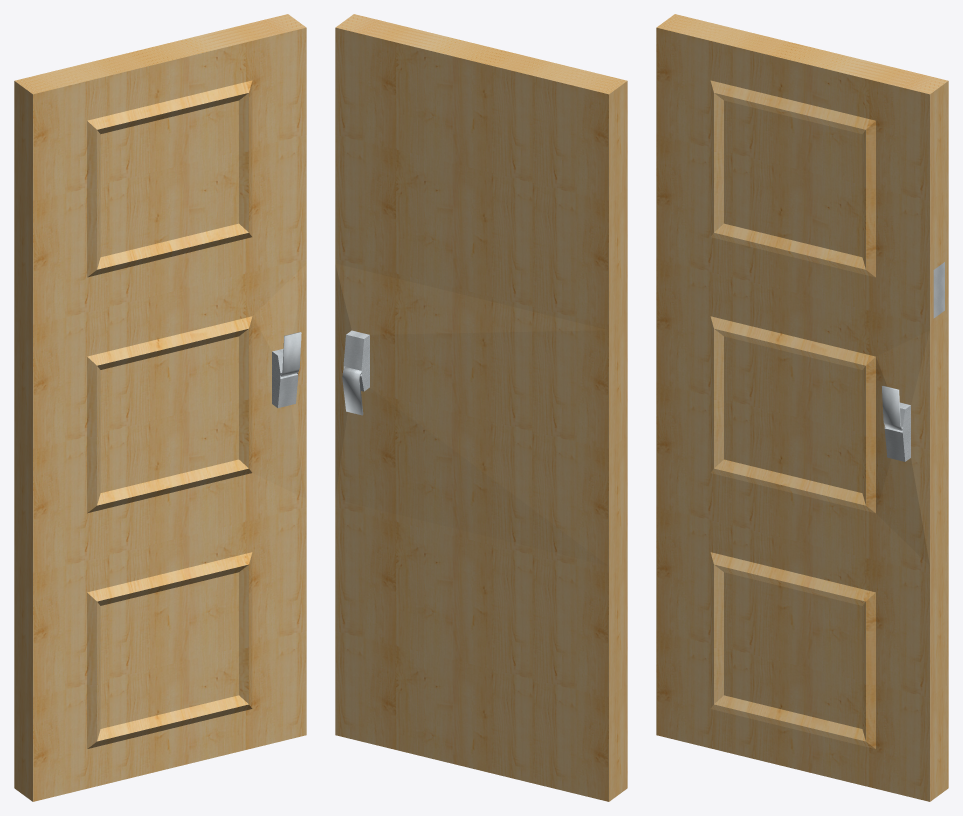
File: Door.FBX
3 renders of one model, left to right at view 1: azimuth 30°, elevation 25°; view 2: azimuth 150°, elevation 25°; view 3: azimuth 330°, elevation 25°, orthographic.
Parts seen in each view (by area): view 1: Door, HandleOuter; view 2: Door, HandleInner; view 3: Door, HandleOuter.
Boxes of the visible parts, x1,y1,x2,y2 form: Door: (14, 14, 306, 801); HandleOuter: (280, 332, 301, 376); Door: (335, 14, 627, 801); HandleInner: (342, 367, 363, 415); Door: (656, 14, 948, 801); HandleOuter: (882, 386, 902, 430).
Bounding box in the file's own units: 34 × 84 × 9.33.
Materials: 1 (1 with a texture image).
